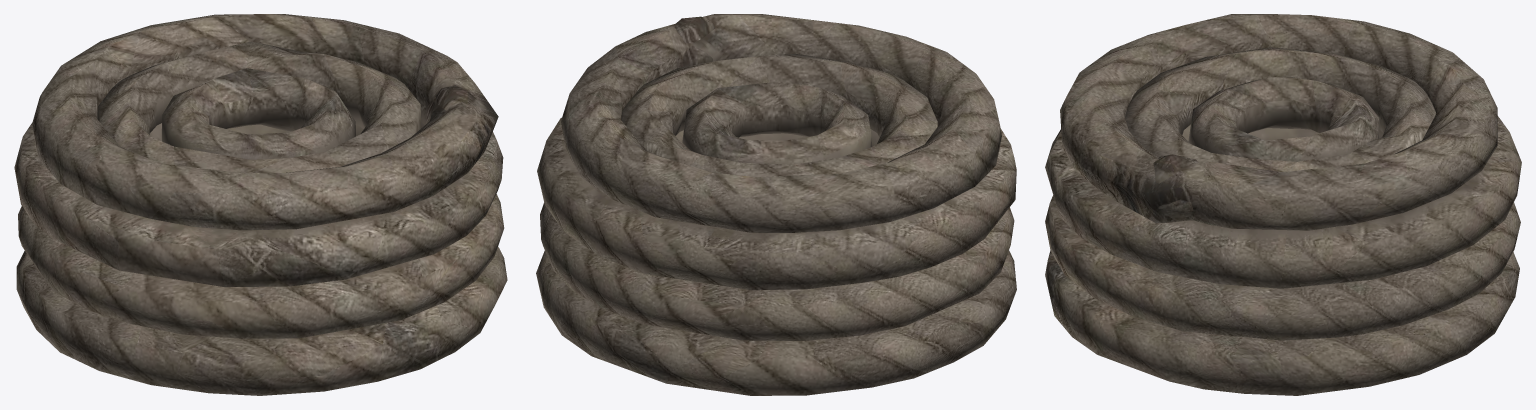
File: rope_coil_large.glb
The picture shows the model from 3 angles, left to right: view 1: azimuth 30°, elevation 25°; view 2: azimuth 150°, elevation 25°; view 3: azimuth 270°, elevation 25°; orthographic projection. The views are drawn at different scales.
Bounding box in the file's own units: 1.2 × 0.6141 × 1.2.
Materials: 1 (1 with a texture image).
